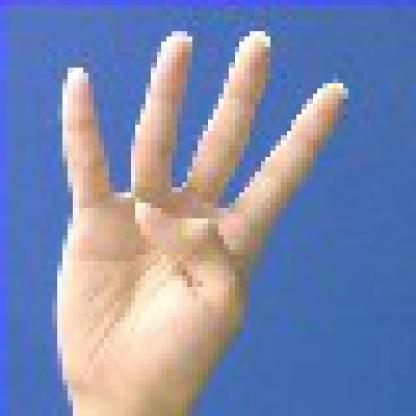four: (35, 17, 356, 404)
